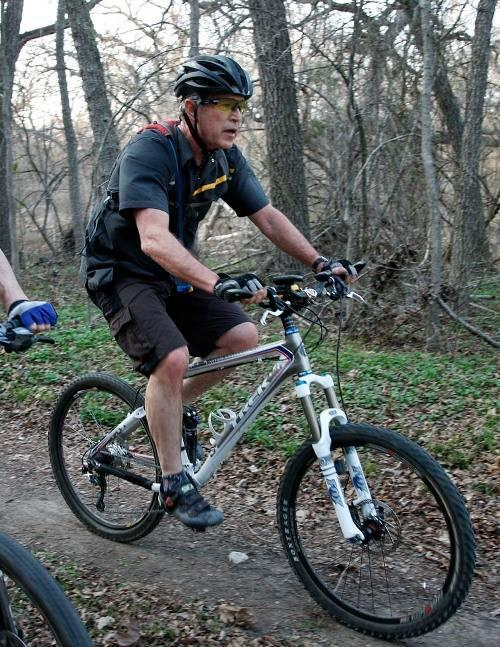person: (86, 58, 357, 537)
